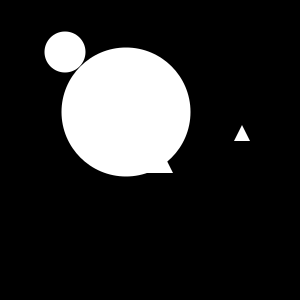rectangle: (61, 48, 190, 176), (44, 32, 86, 72)
triangle: (110, 110, 173, 173), (234, 125, 250, 141)
